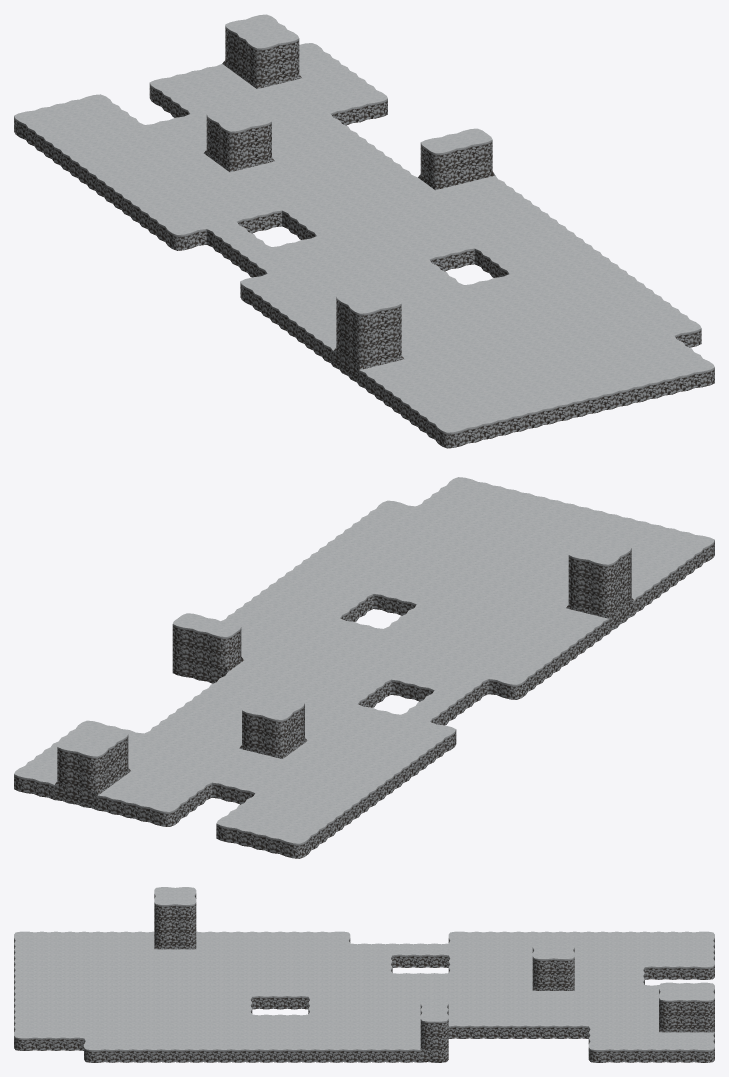
Rendered from Bumpiness.fbx.
3 renders of one model, top to bottom at view 1: azimuth 30°, elevation 25°; view 2: azimuth 150°, elevation 25°; view 3: azimuth 270°, elevation 25°, orthographic. The views are drawn at different scales.
Visible parts, largest first — view 1: Terrain; view 2: Terrain; view 3: Terrain.
Boxes of the visible parts, box(x1,y1,x2,y2) form: Terrain: box(14, 14, 714, 448); Terrain: box(14, 477, 714, 858); Terrain: box(14, 887, 714, 1062).
Bounding box in the file's own units: 20 × 4.5 × 50.
1 material, 1 textured.
